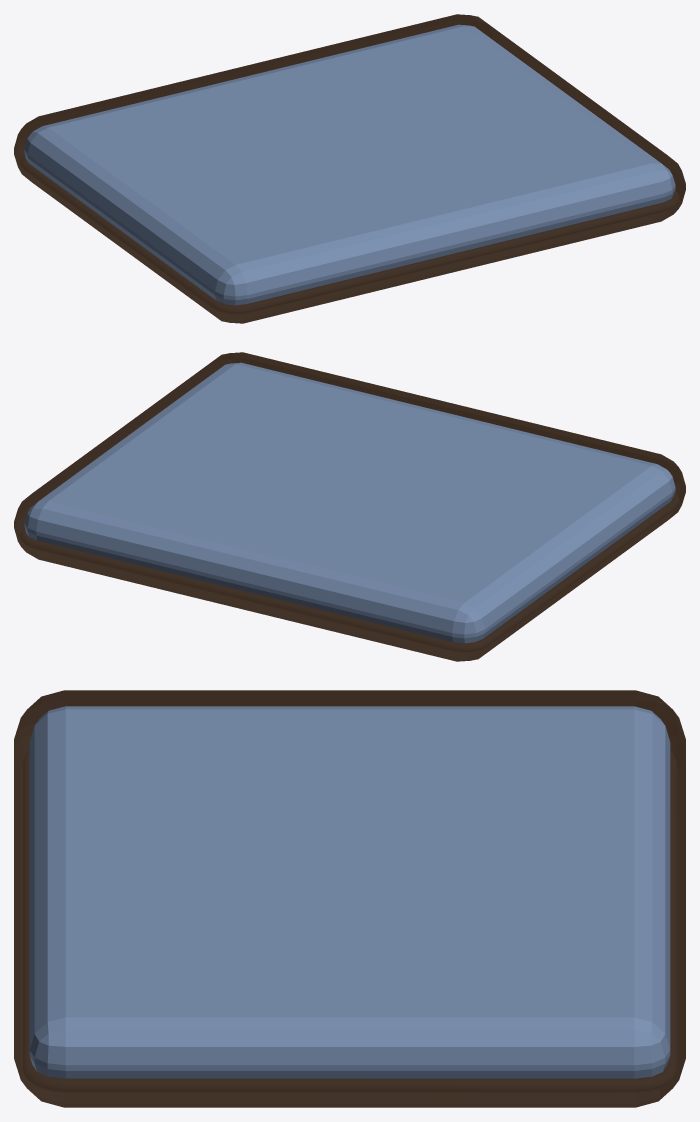
Rendered from almofada.glb.
The picture shows the model from 3 angles, top to bottom: view 1: azimuth 30°, elevation 25°; view 2: azimuth 150°, elevation 25°; view 3: azimuth 270°, elevation 25°; orthographic projection. The views are drawn at different scales.
Visible parts, largest first — view 1: almofada, almofada_outline; view 2: almofada, almofada_outline; view 3: almofada, almofada_outline.
Boxes of the visible parts, <box> form: almofada: <box>24,24,675,305</box>; almofada_outline: <box>14,14,685,323</box>; almofada: <box>24,362,675,643</box>; almofada_outline: <box>14,352,685,661</box>; almofada: <box>29,706,670,1078</box>; almofada_outline: <box>14,690,685,1107</box>.
Size of the model in its own units: 1.04 by 0.1373 by 0.8393.
